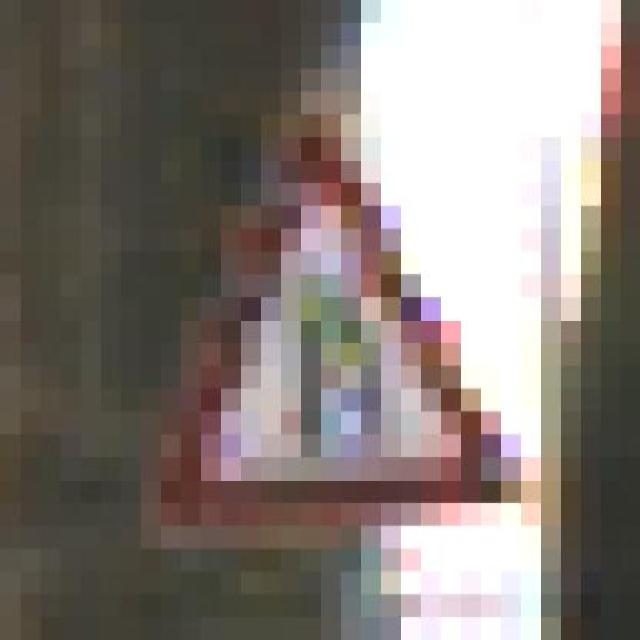-Road narrows on right: (120, 91, 540, 548)
